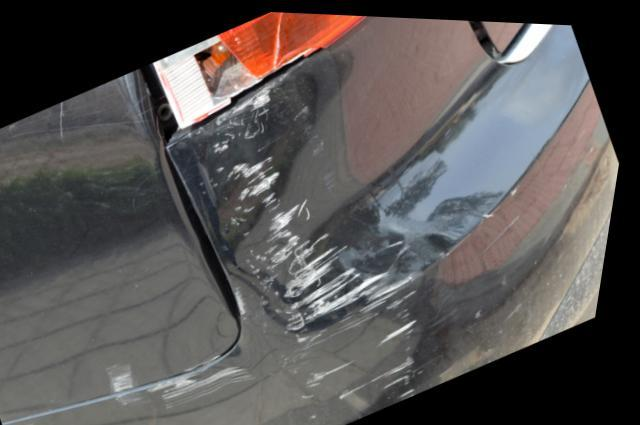lamp broken: (153, 9, 367, 130)
scratch: (126, 81, 440, 425), (115, 358, 149, 394)
